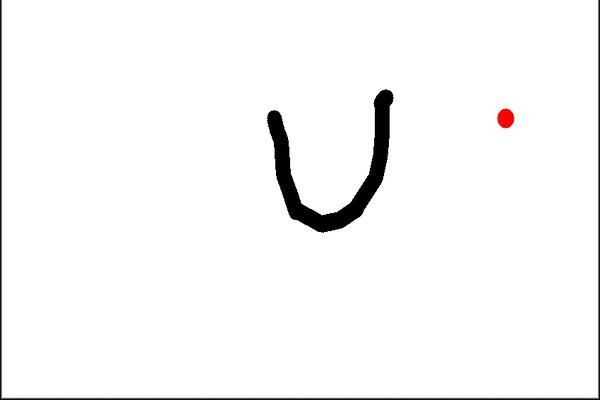U: (252, 75, 402, 248)
